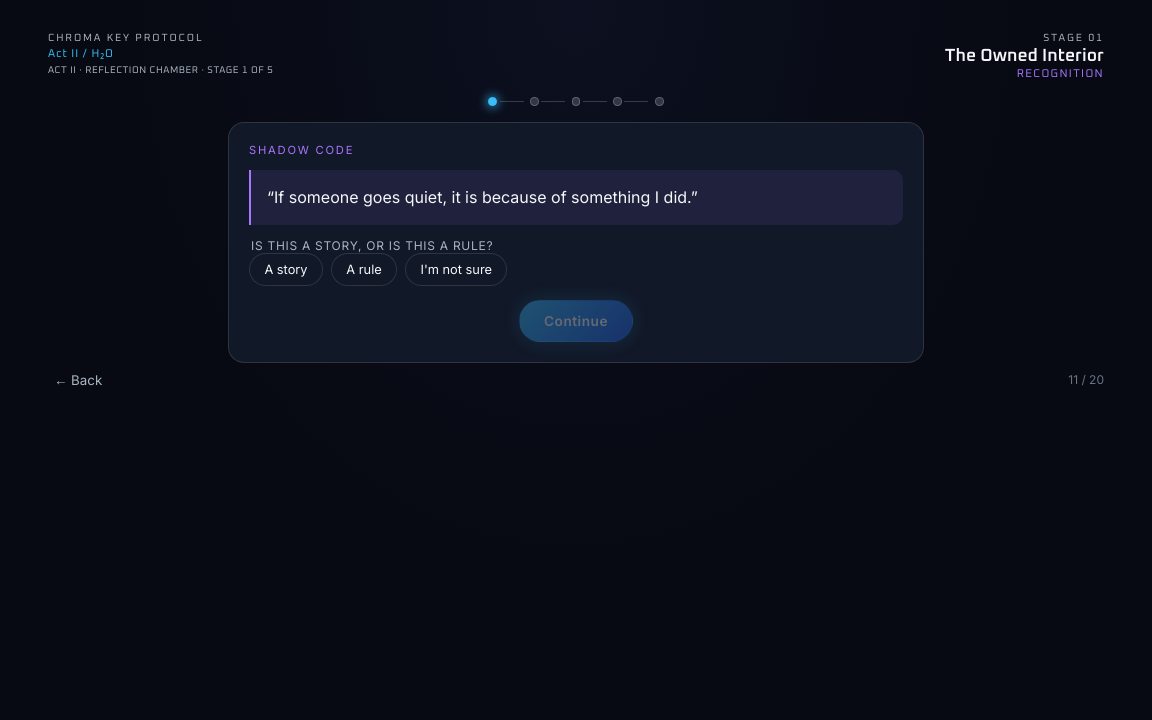
Test: the Shadow Code arc › carries the Seeker’s own wording into the Shadow Code comparison
Expected: the text "My pain is an external curse, and God/Fate is to blame for my suffering." is not shown
Click the button "A rule". click: (364, 270)
box: [331,253,397,286]
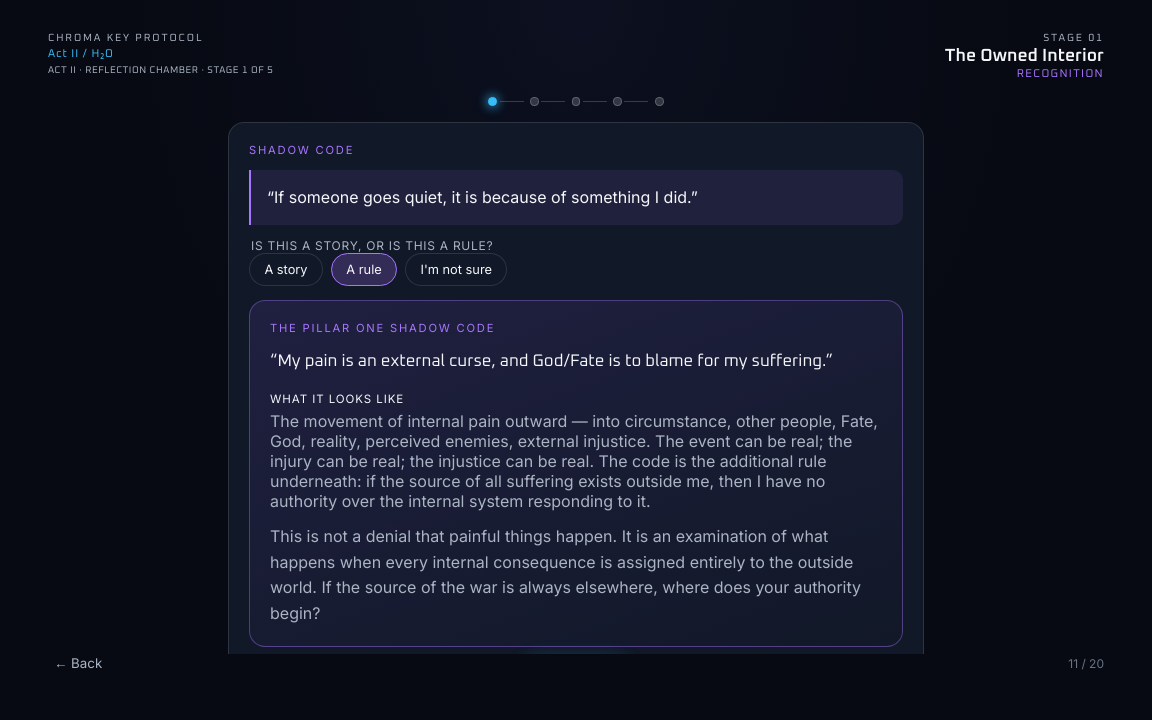
Expected: the text "If someone goes quiet, it is because of something I did." is shown, [274,187,691,207]
Expected: the text "My pain is an external curse, and God/Fate is to blame for my suffering." is shown, [277,352,826,370]
